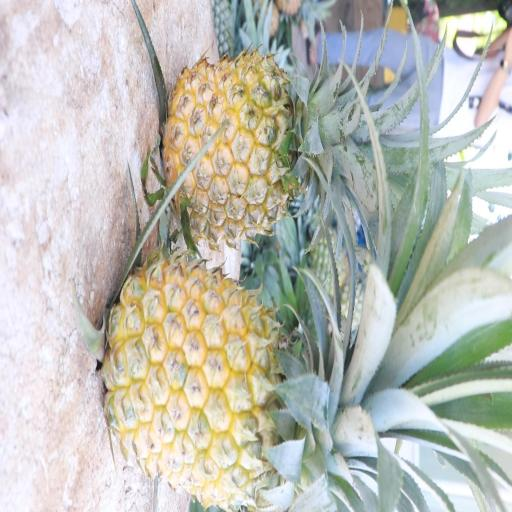Pineapple - v8 v1: (96, 245, 387, 507), (158, 46, 362, 256), (216, 154, 226, 158), (223, 112, 232, 112)
